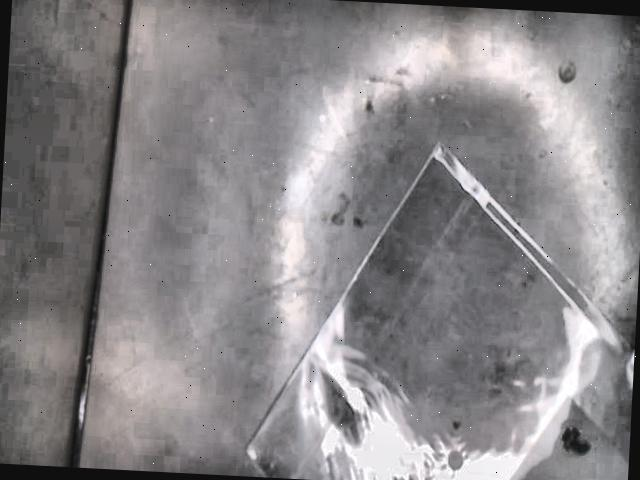Plastic: (246, 143, 635, 480)
